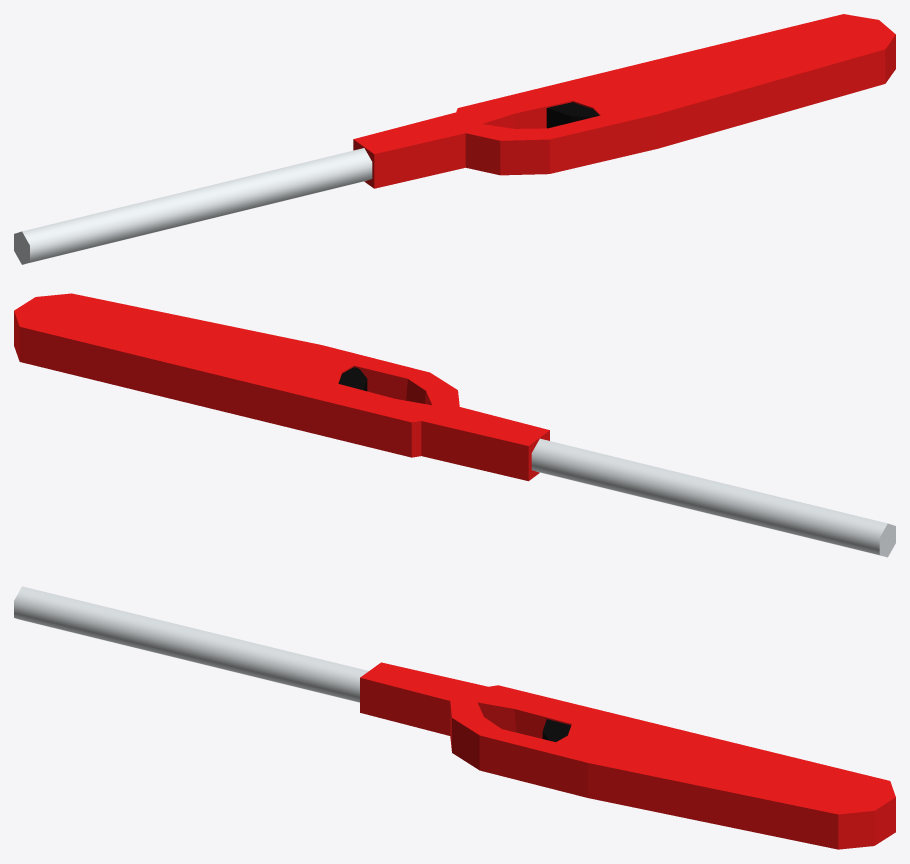
Rendered from gun lighter.FBX.
3 views of the same model, one above another, from view 1: azimuth 30°, elevation 25°; view 2: azimuth 150°, elevation 25°; view 3: azimuth 330°, elevation 25° (orthographic).
Parts seen in each view (by area): view 1: lighter; view 2: lighter; view 3: lighter.
Boxes of the visible parts, x1,y1,x2,y2 form: lighter: [14, 14, 895, 264]; lighter: [14, 293, 895, 557]; lighter: [14, 586, 895, 849].
Size of the model in its own units: 130 by 5.06 by 14.71.
